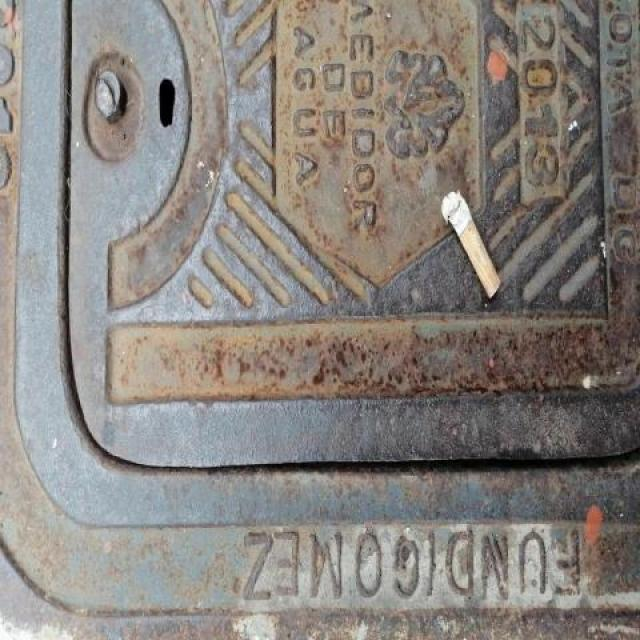non-organic waste: (437, 187, 504, 304)
